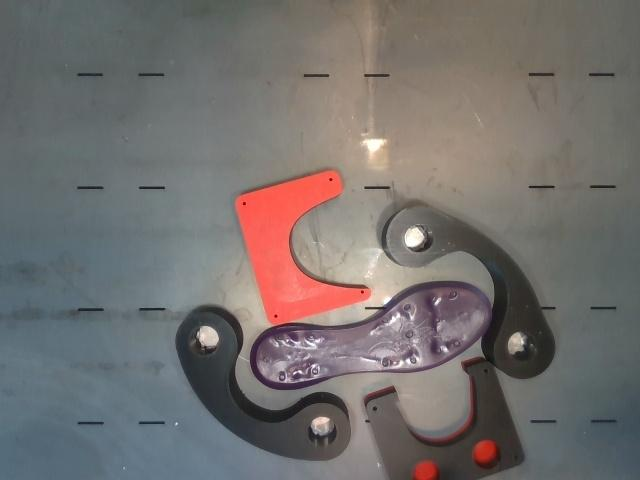shoes: (251, 281, 491, 390)
